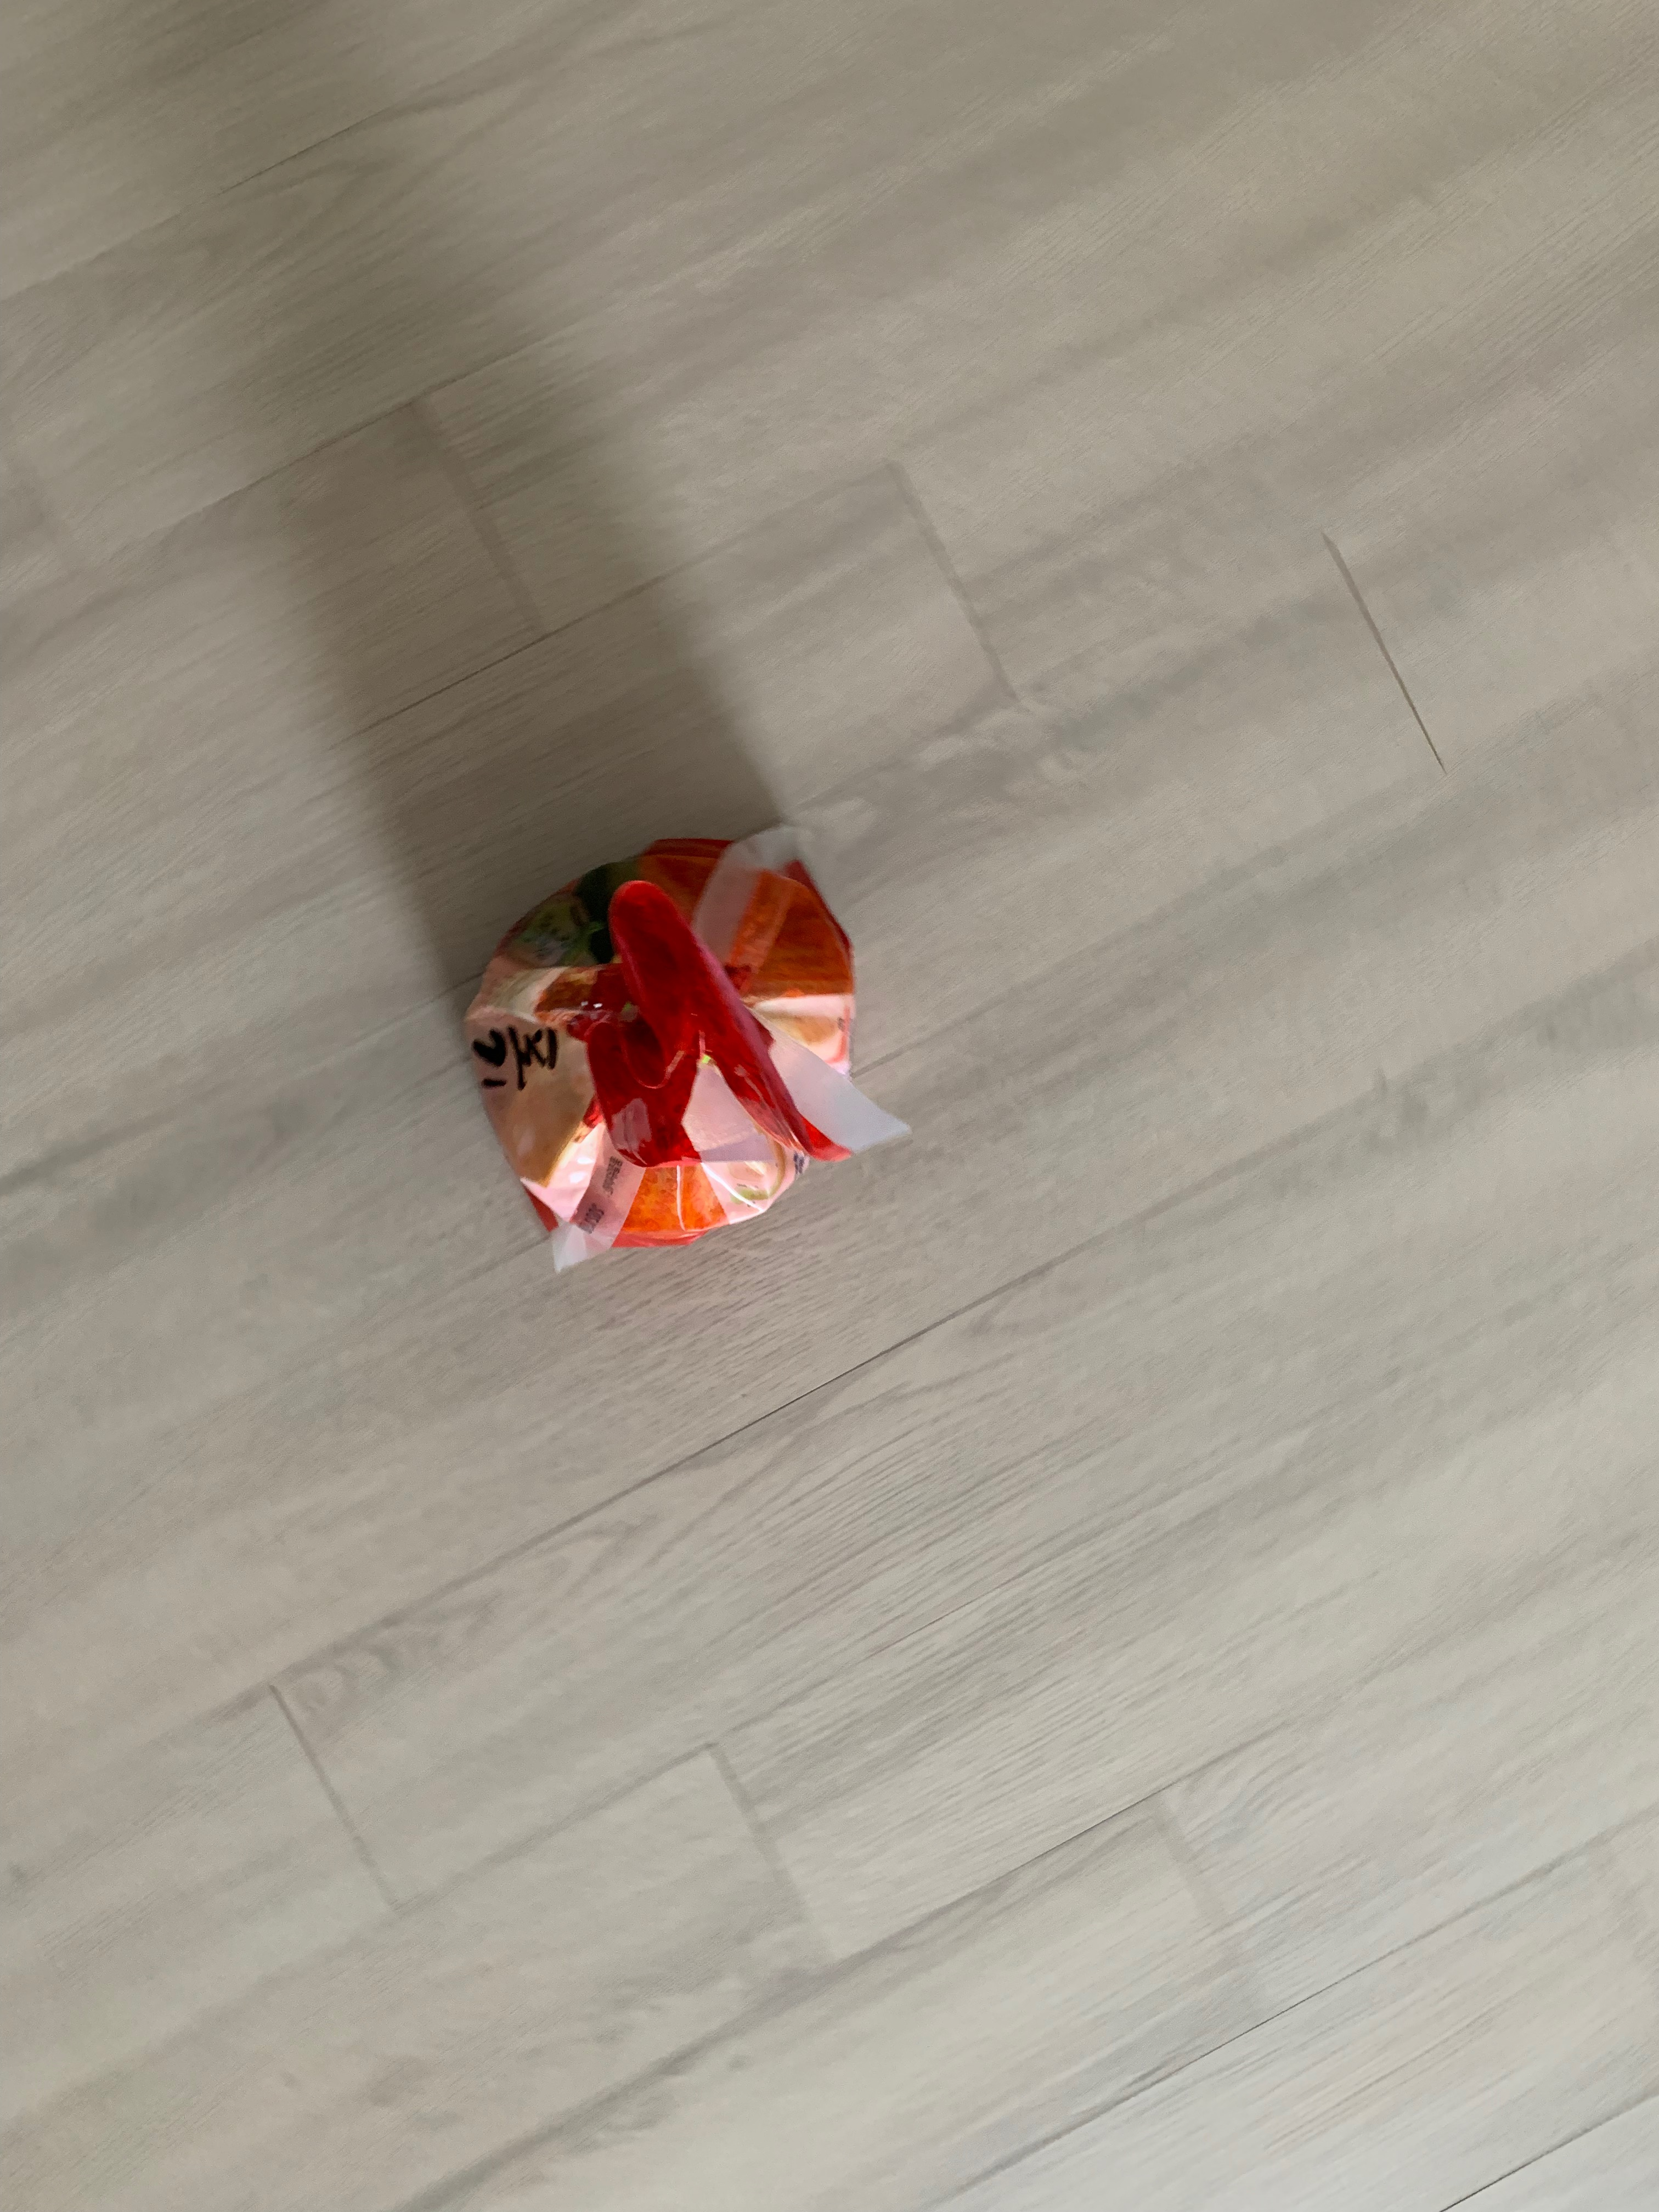kimchi: (465, 834, 863, 1244)
